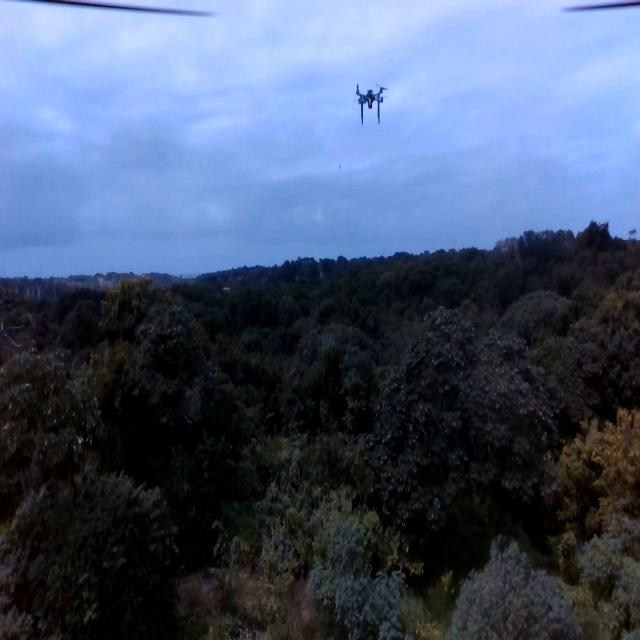-uav-: (348, 74, 392, 134)
